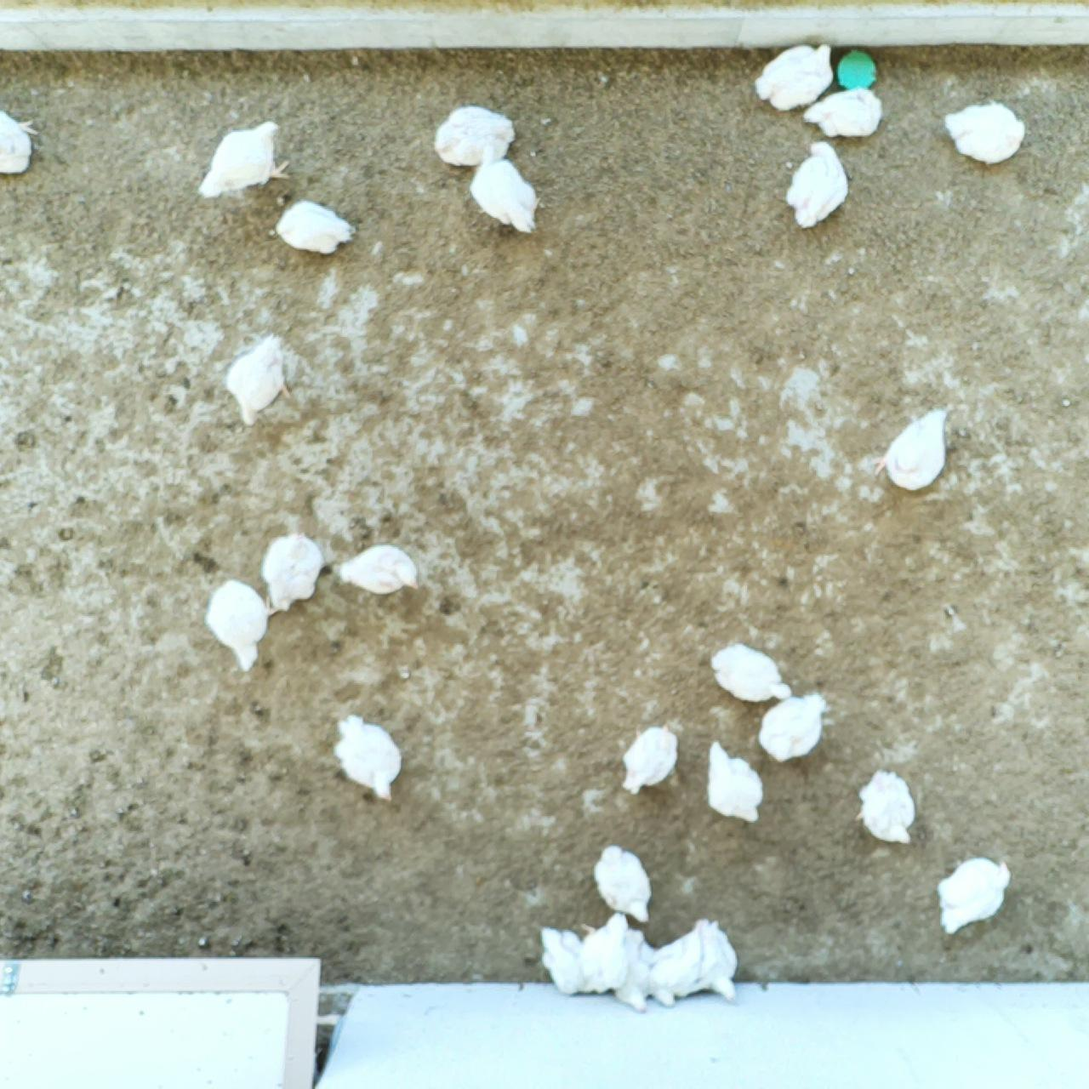chicken: (195, 118, 295, 207), (461, 136, 543, 236), (330, 709, 401, 806), (874, 408, 953, 495), (935, 854, 1013, 939), (208, 576, 275, 671), (227, 333, 293, 428), (433, 99, 520, 169), (755, 40, 836, 112), (702, 738, 768, 825), (943, 101, 1028, 167), (759, 690, 832, 765), (788, 138, 848, 227), (710, 643, 792, 707), (261, 532, 323, 616), (332, 542, 421, 599), (595, 841, 653, 926), (622, 717, 682, 796), (859, 767, 915, 849), (600, 927, 656, 1009), (684, 920, 739, 1001), (275, 199, 353, 255), (579, 911, 630, 996), (805, 86, 888, 138), (536, 923, 590, 1000), (656, 928, 702, 1008), (0, 105, 37, 177)
